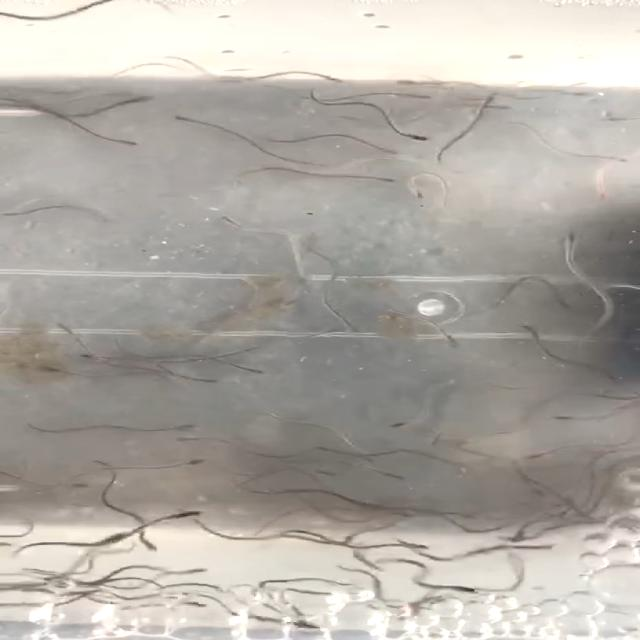active_glass_eel: (290, 443, 383, 461), (389, 412, 459, 434), (314, 66, 362, 96), (497, 524, 537, 554), (364, 463, 410, 489), (322, 316, 374, 338), (514, 542, 582, 558), (55, 480, 109, 500), (288, 612, 332, 636), (85, 211, 133, 233), (170, 500, 207, 528), (182, 452, 230, 473), (523, 485, 567, 507), (79, 524, 111, 554), (538, 407, 586, 427), (190, 374, 234, 394), (207, 206, 248, 227), (124, 136, 158, 160), (380, 144, 430, 160), (470, 100, 520, 116), (396, 538, 438, 556), (453, 582, 486, 604), (185, 562, 221, 582), (229, 365, 273, 381), (174, 434, 214, 451), (66, 580, 114, 594), (74, 350, 116, 366), (173, 418, 206, 438), (243, 344, 279, 362), (392, 80, 464, 89), (372, 173, 410, 190), (401, 186, 432, 206), (428, 337, 477, 349), (138, 536, 160, 562), (518, 452, 556, 467), (24, 570, 58, 586), (133, 91, 165, 108), (76, 454, 120, 466), (512, 326, 562, 336), (168, 112, 194, 130), (407, 129, 434, 146), (558, 300, 582, 317), (466, 92, 498, 104), (45, 366, 78, 376), (277, 526, 302, 539), (488, 430, 528, 438), (314, 469, 344, 479), (184, 600, 210, 610), (408, 92, 432, 102)
